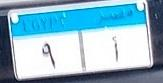9: (36, 39, 59, 74)
alif: (109, 34, 123, 64)
